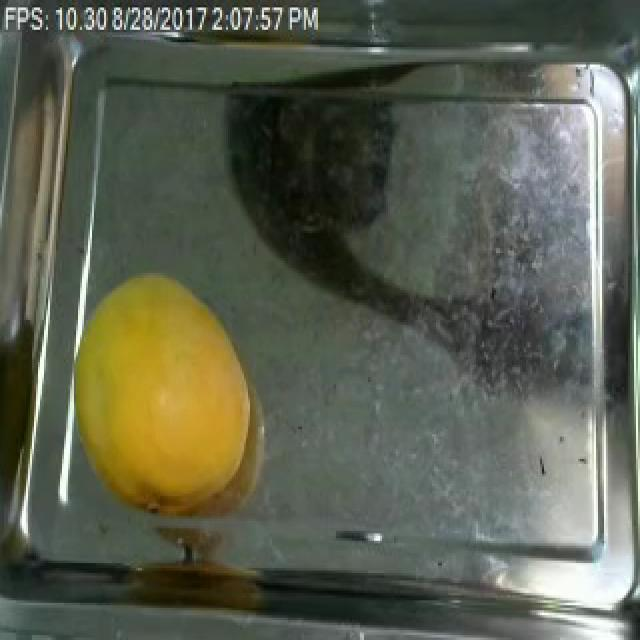fruit: (52, 258, 268, 531)
